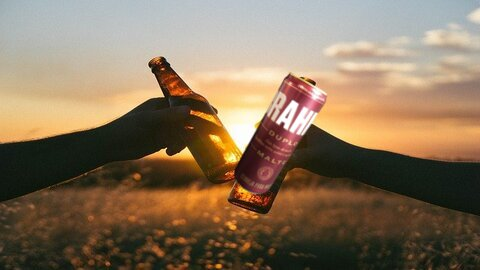duplo_malte: (234, 72, 326, 194)
